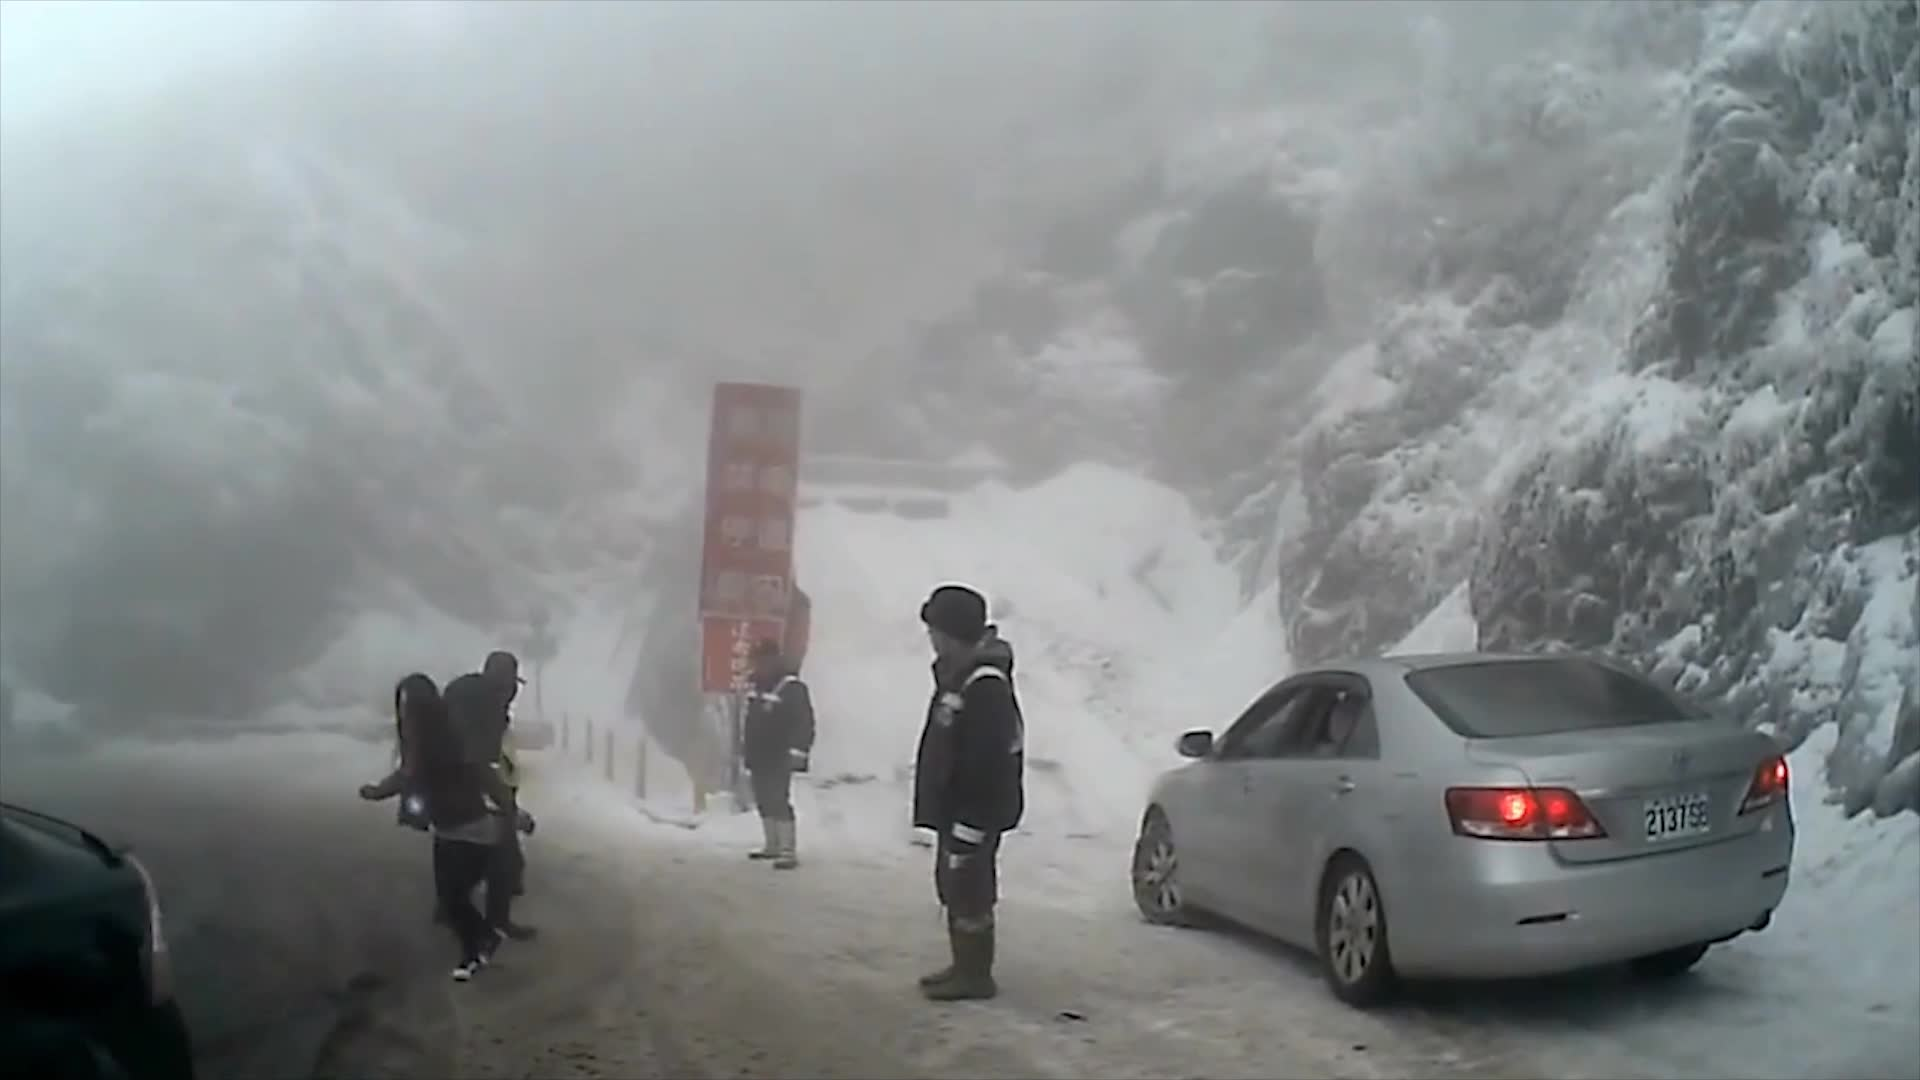pedestrian: (906, 585, 1036, 1011), (359, 674, 536, 979), (429, 655, 544, 939), (747, 637, 829, 877), (753, 568, 818, 746)
vehicle: (1128, 649, 1795, 1008), (0, 792, 201, 1078)
